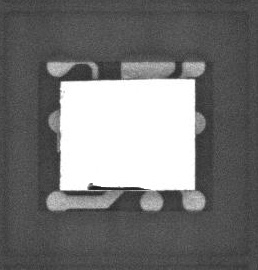DIE_BROKEN: (83, 181, 148, 190)
